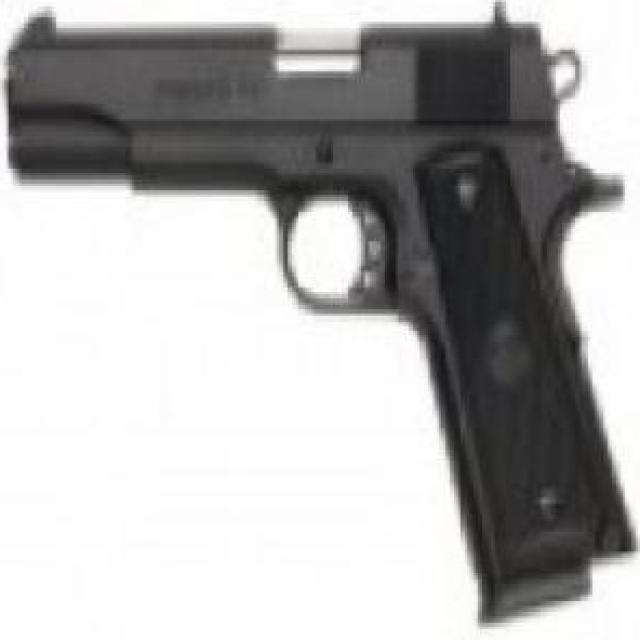pistol: (8, 2, 636, 618)
